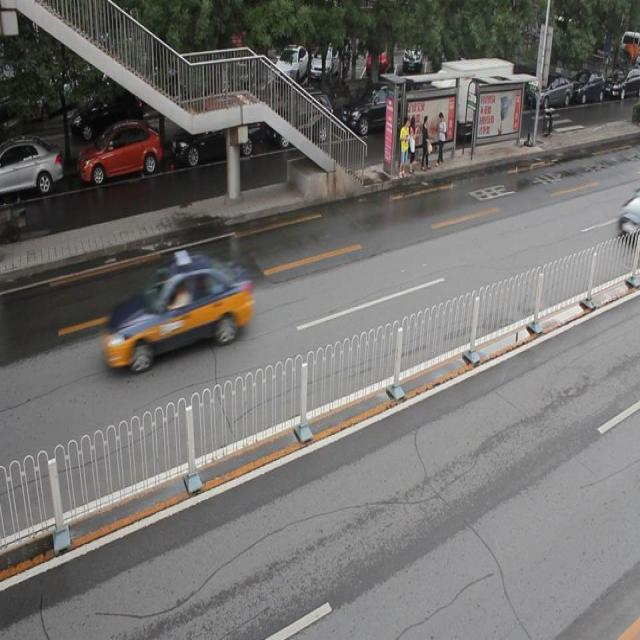bus: (427, 59, 513, 132)
car: (102, 254, 254, 372), (172, 106, 261, 169), (79, 121, 160, 184), (268, 90, 335, 148), (1, 138, 64, 199), (340, 83, 402, 136)
